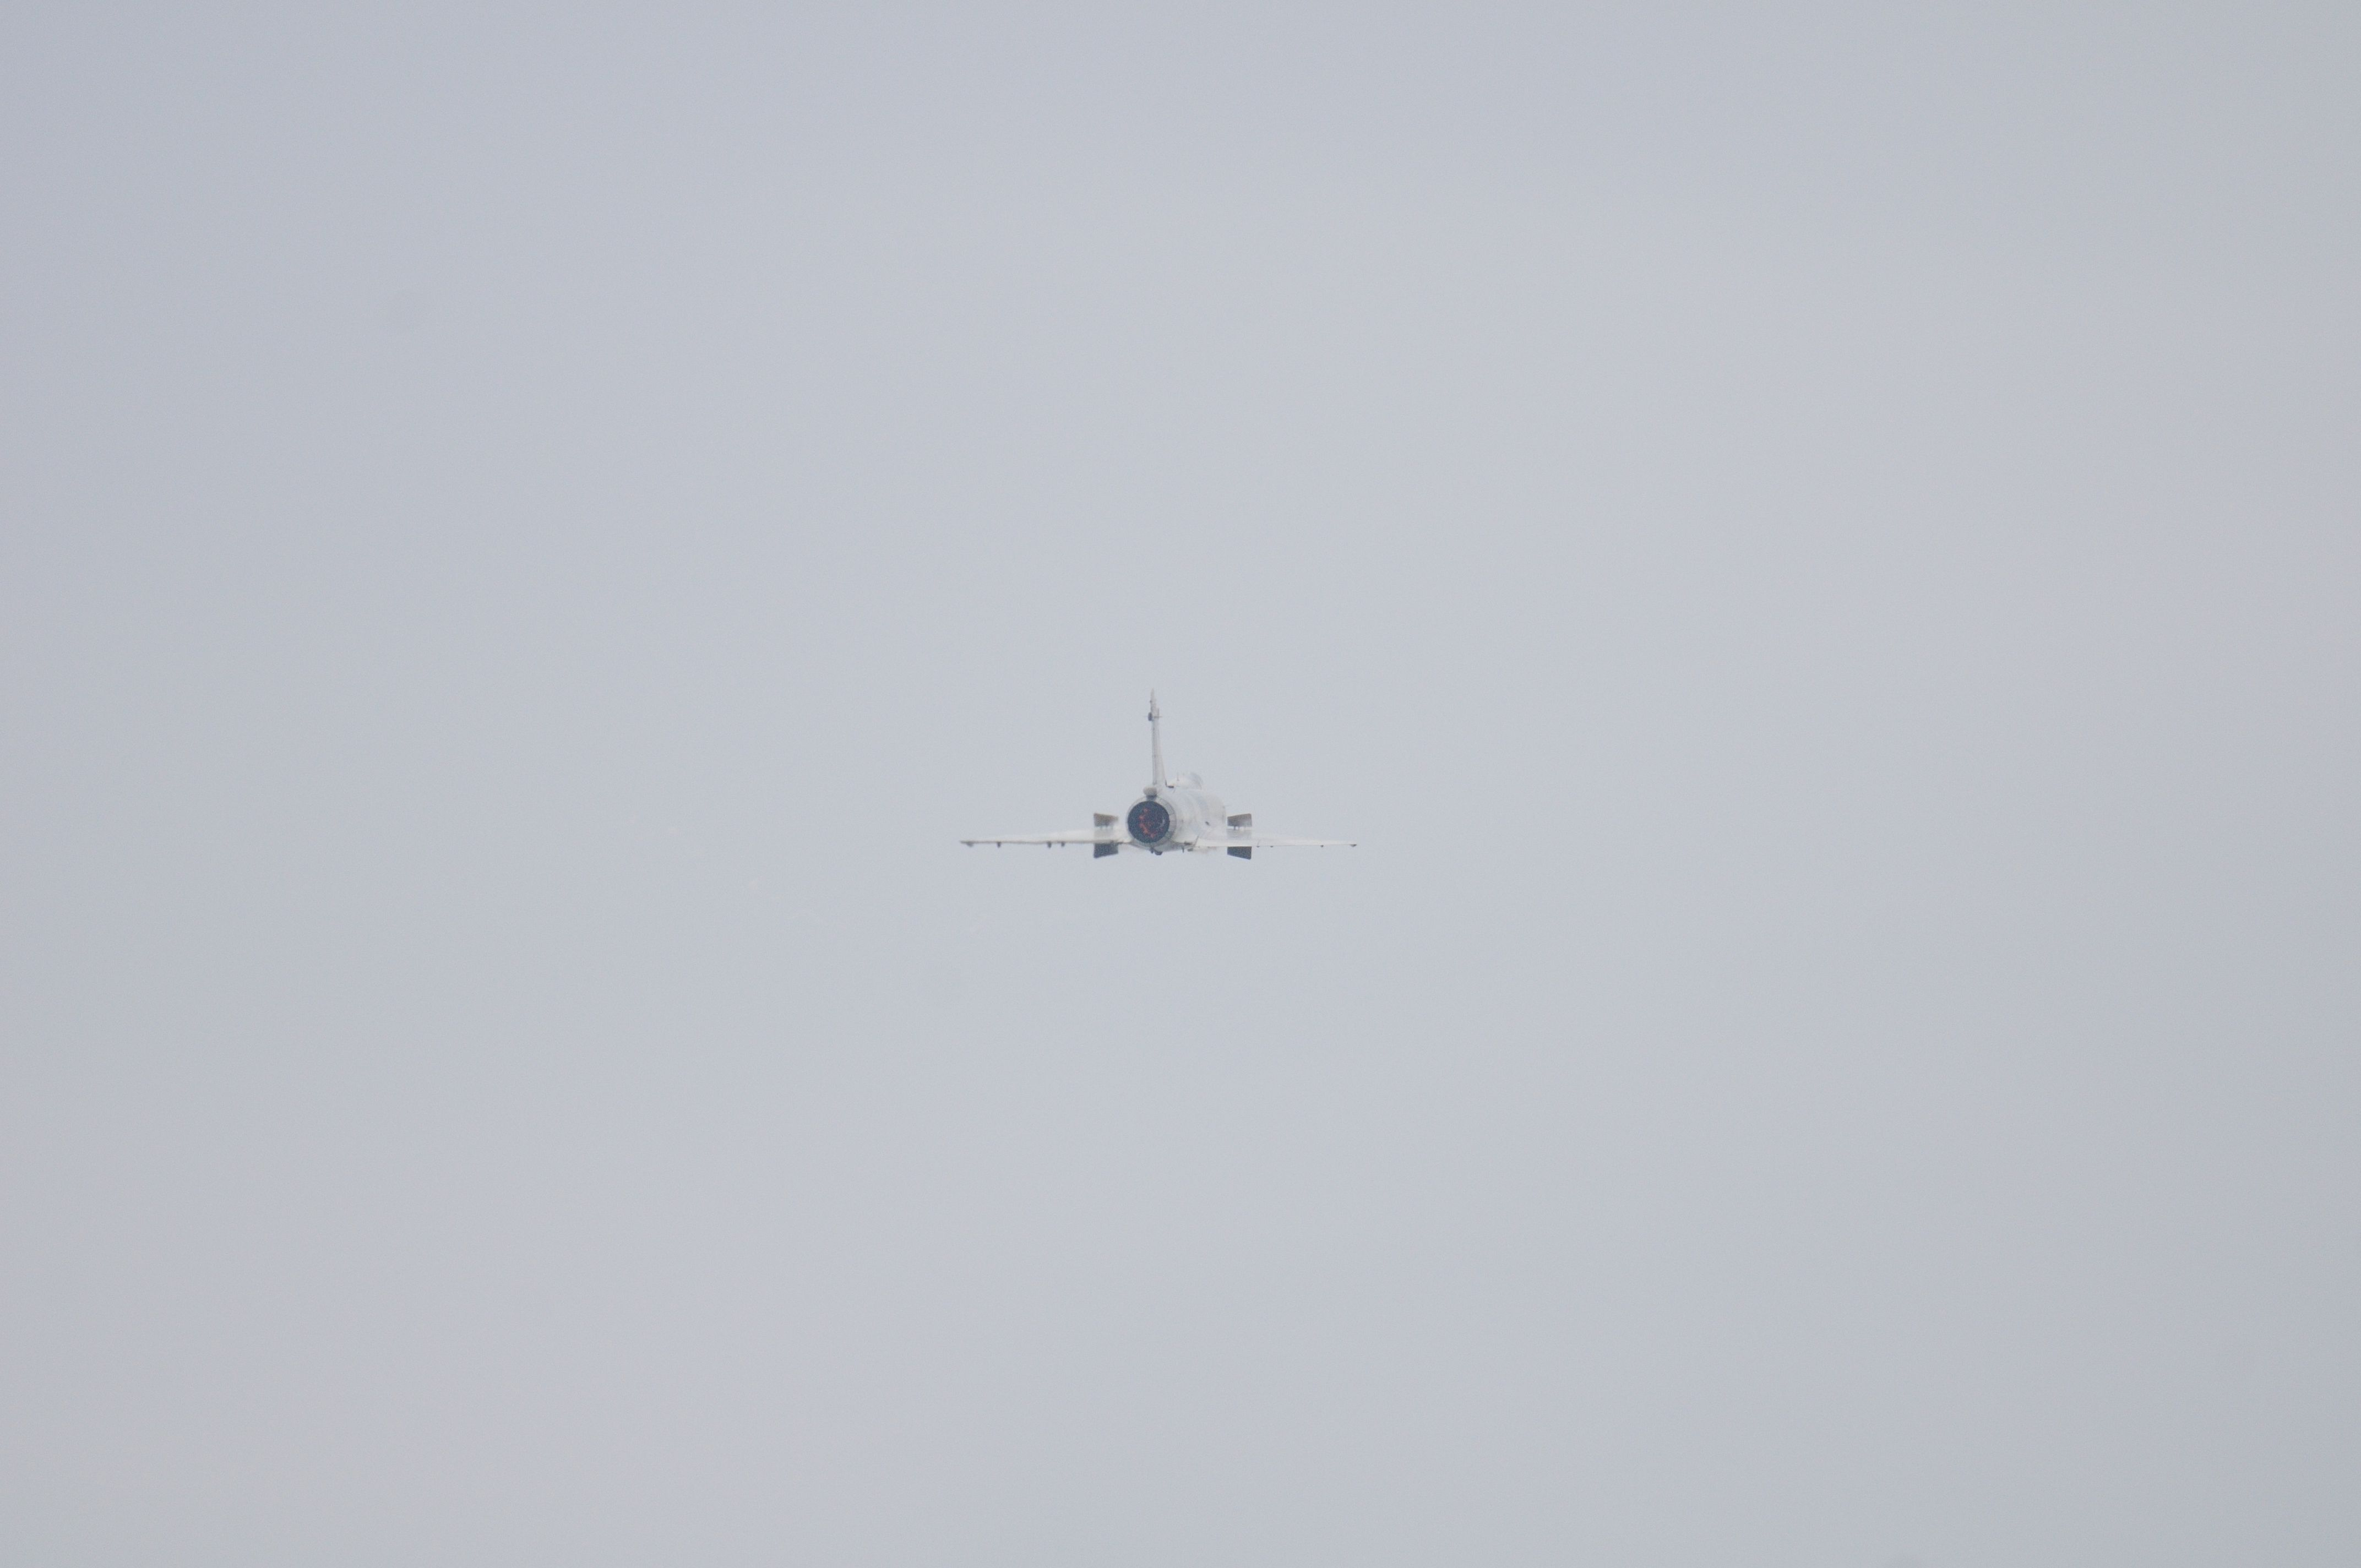Mirage2000: (956, 686, 1358, 861)
